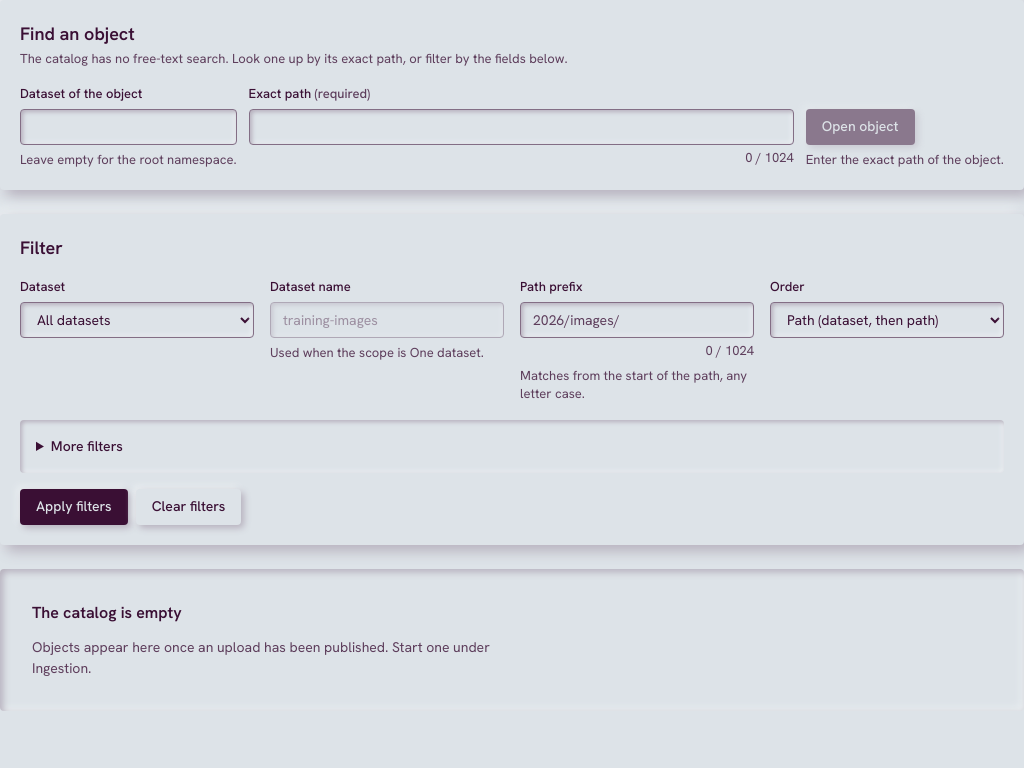
Test: CatalogList › says there is no free-text search and shows a missing exact path
Expected: the text "no free-text search" is shown, [20, 50, 568, 67]
In the field labelled "Exact path (required)": {"x": 521, "y": 127} [249, 109, 794, 145], type "missing.txt"
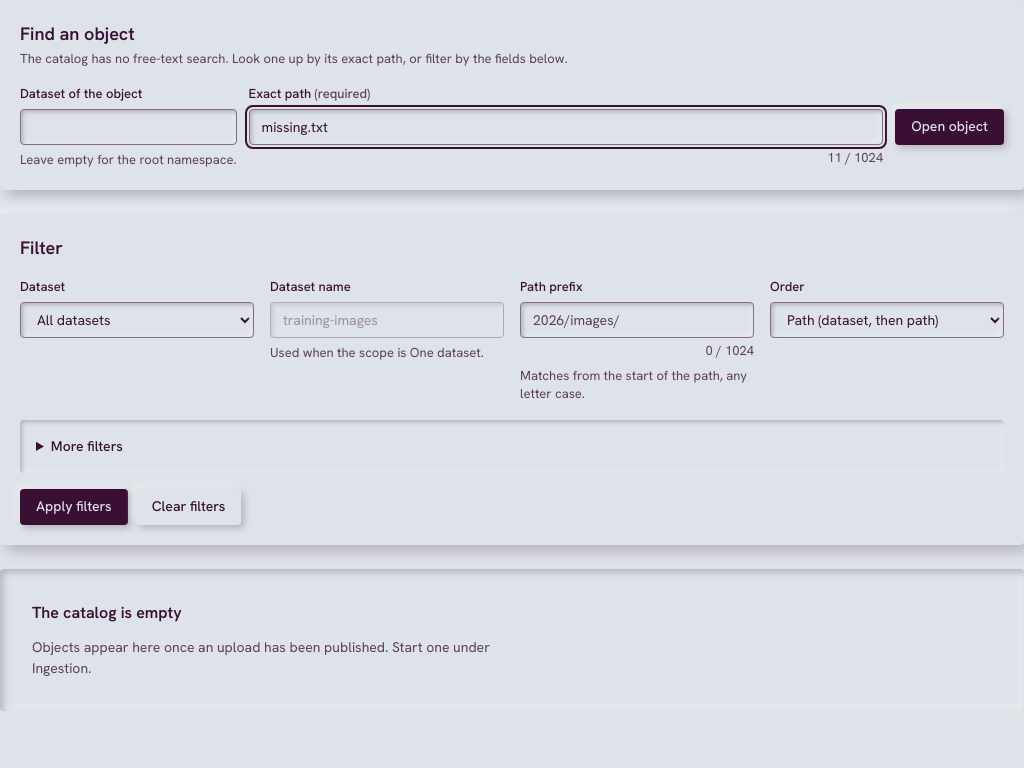
Click the button "Open object": {"x": 950, "y": 127} [895, 109, 1004, 145]
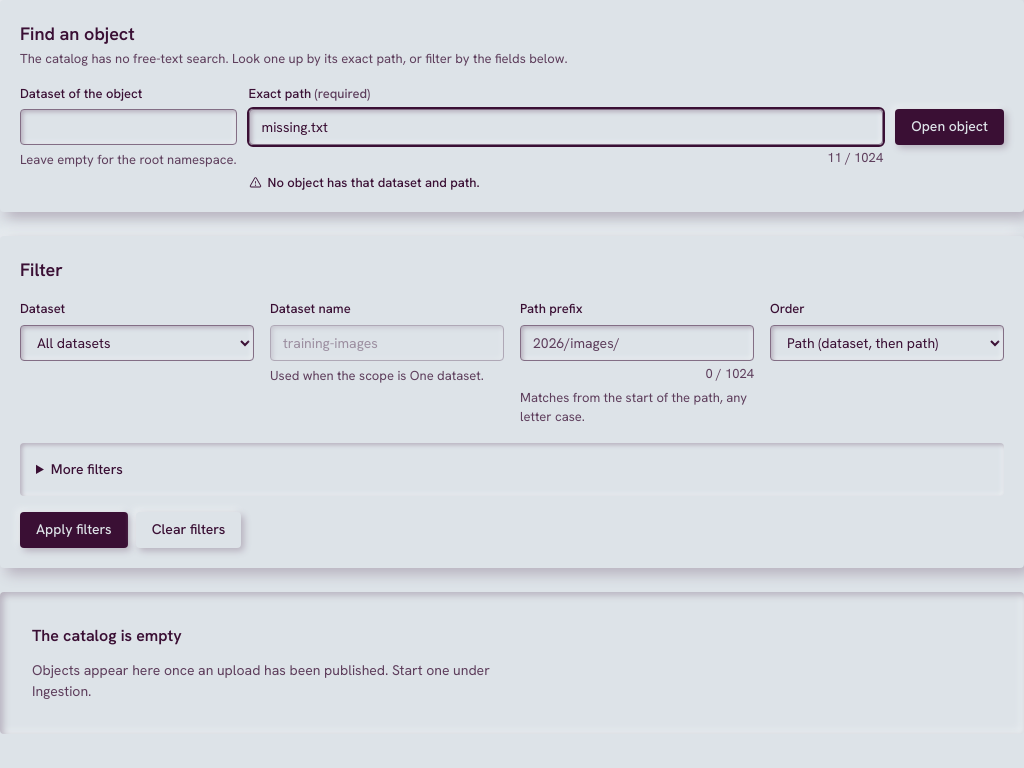
Expected: the text "No object has that dataset and path." is shown, [249, 174, 480, 191]
